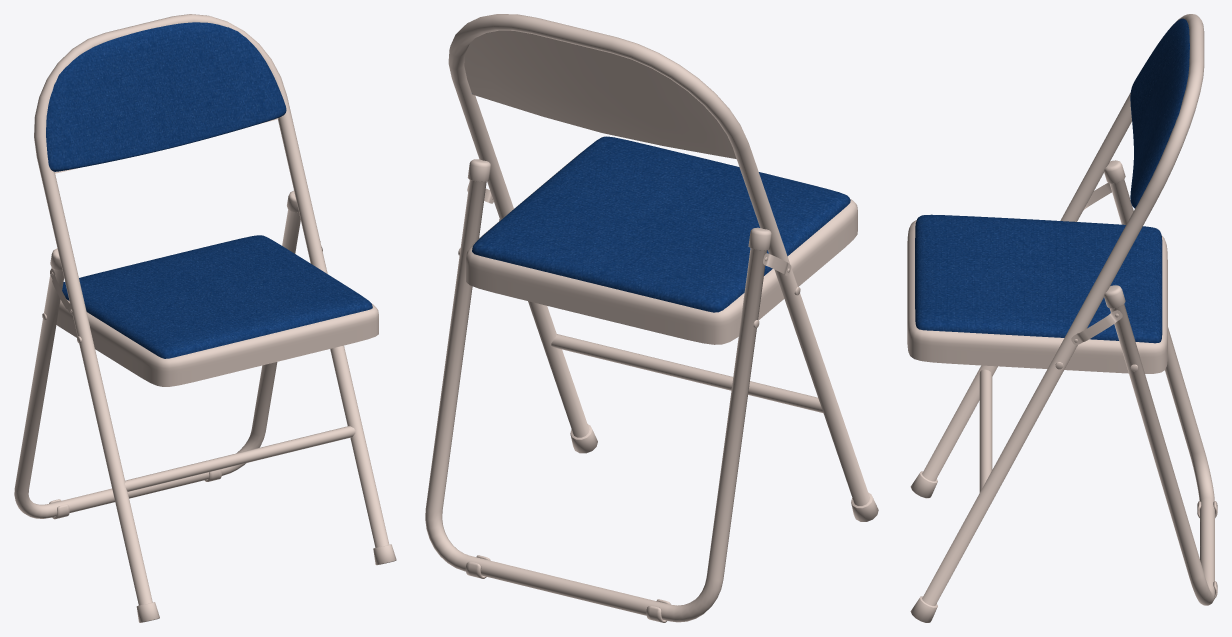
File: chair_04_02.001.fbx
3 renders of one model, left to right at view 1: azimuth 30°, elevation 25°; view 2: azimuth 150°, elevation 25°; view 3: azimuth 270°, elevation 25°, orthographic. The views are drawn at different scales.
Visible parts, largest first — view 1: chair_04_02.001; view 2: chair_04_02.001; view 3: chair_04_02.001.
Part boxes in pixels (x1=…): chair_04_02.001: x1=14, y1=14, x2=396, y2=622; chair_04_02.001: x1=425, y1=14, x2=878, y2=622; chair_04_02.001: x1=907, y1=14, x2=1217, y2=622.
Size of the model in its own units: 45.16 by 80.7 by 43.99.
Materials: 1 (1 with a texture image).
